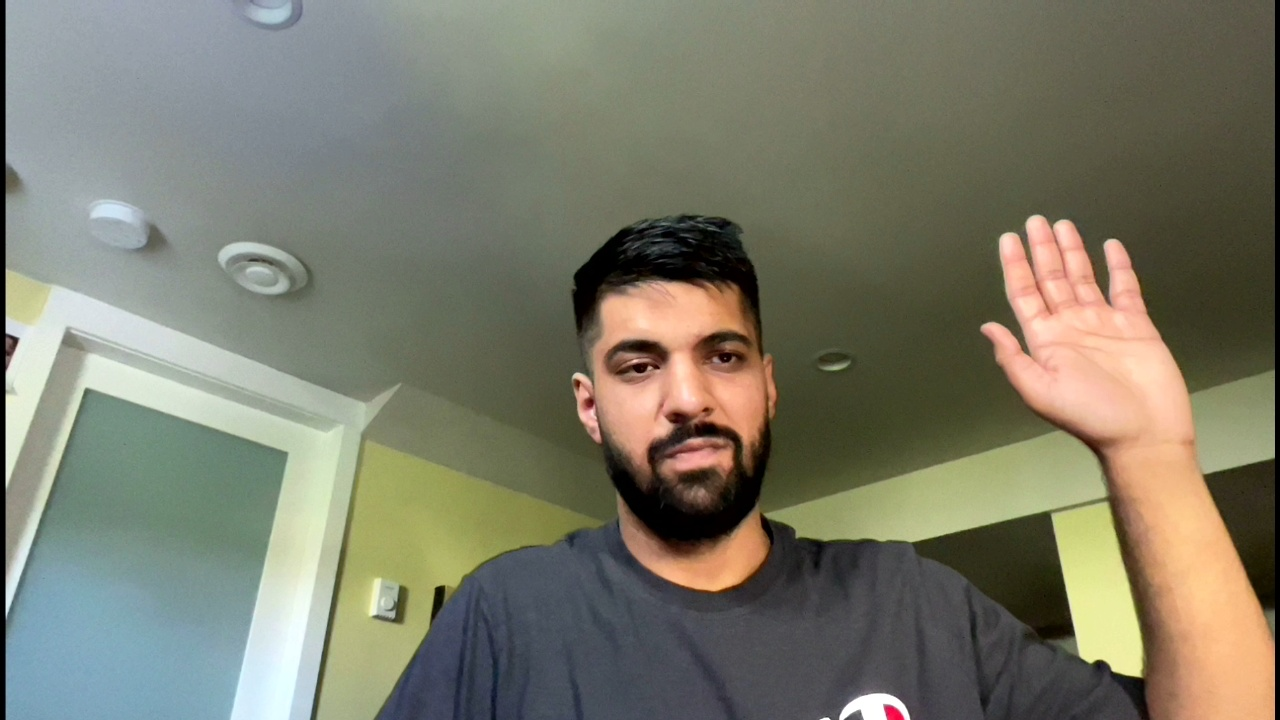Hey!: (964, 207, 1216, 447)
